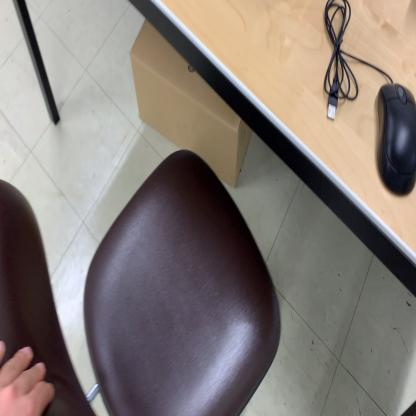chair: (0, 147, 284, 416)
